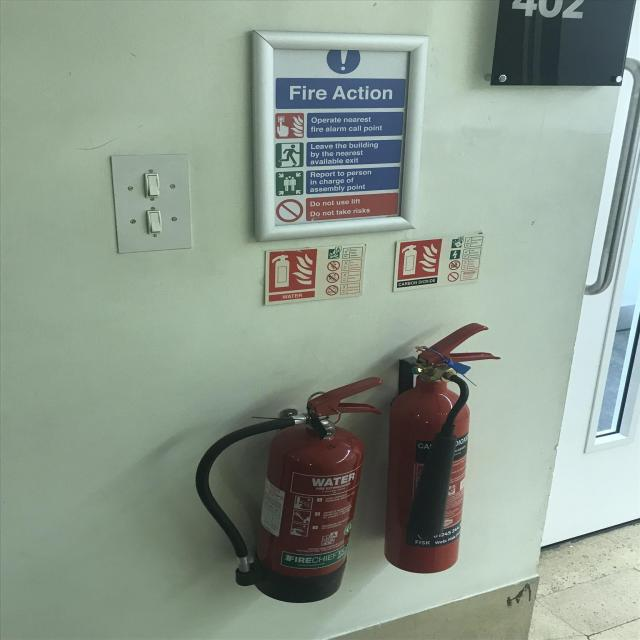fire_extinguisher: (190, 374, 390, 605), (383, 320, 504, 578)
